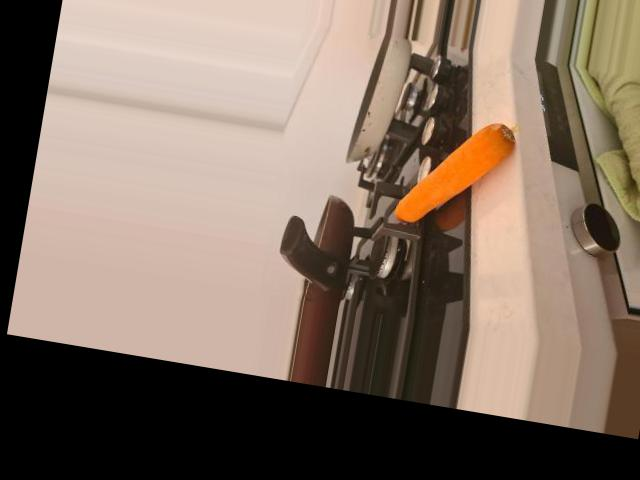carrot: (390, 110, 521, 241)
